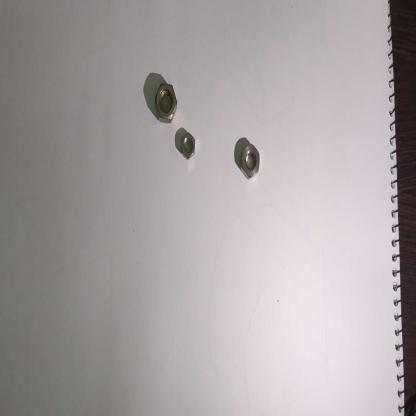NUTS: (152, 80, 180, 123), (238, 139, 263, 180), (176, 129, 198, 160)
